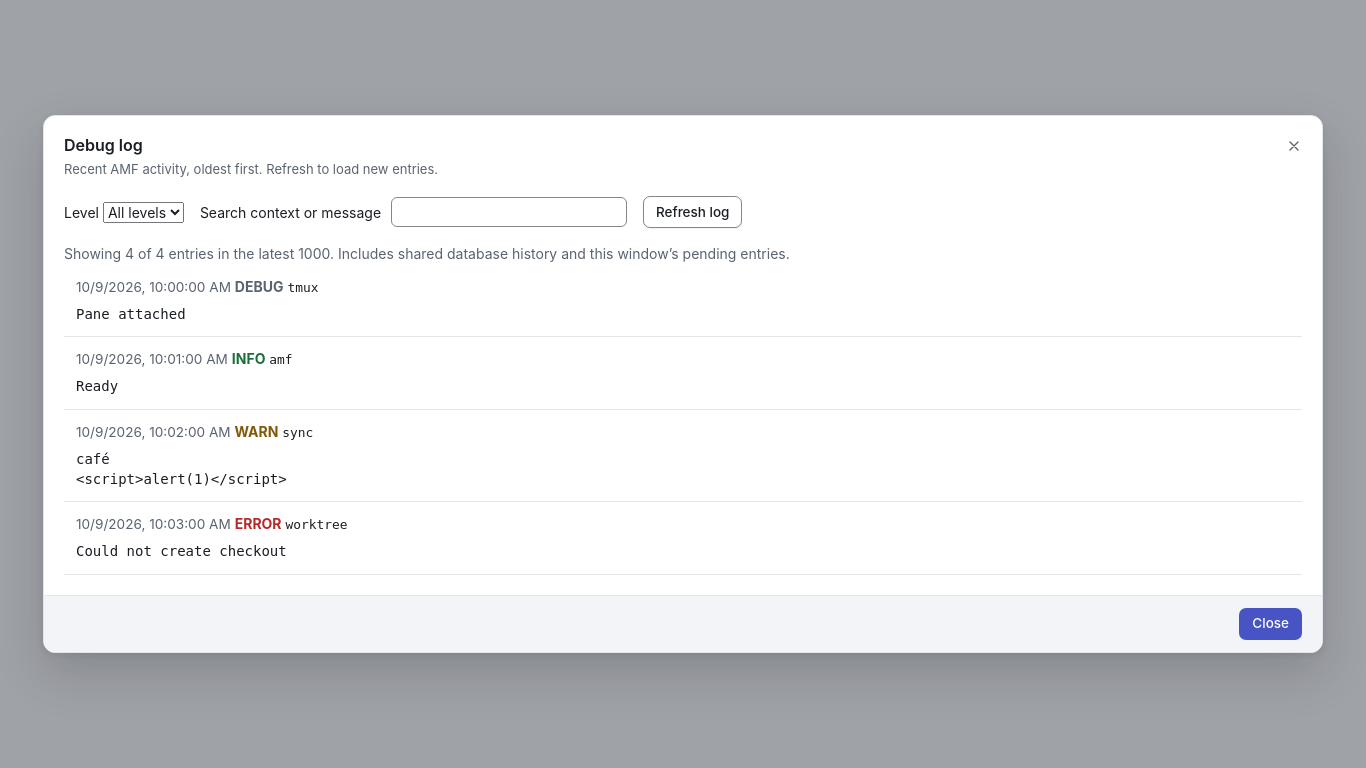
Test case: reports refresh failure as previous history and permits retry
Expected: the text "Pane attached" is shown, x1=76 y1=306 x2=186 y2=322
Click the button "Refresh log". click: [693, 212]
box: x1=643 y1=196 x2=742 y2=228
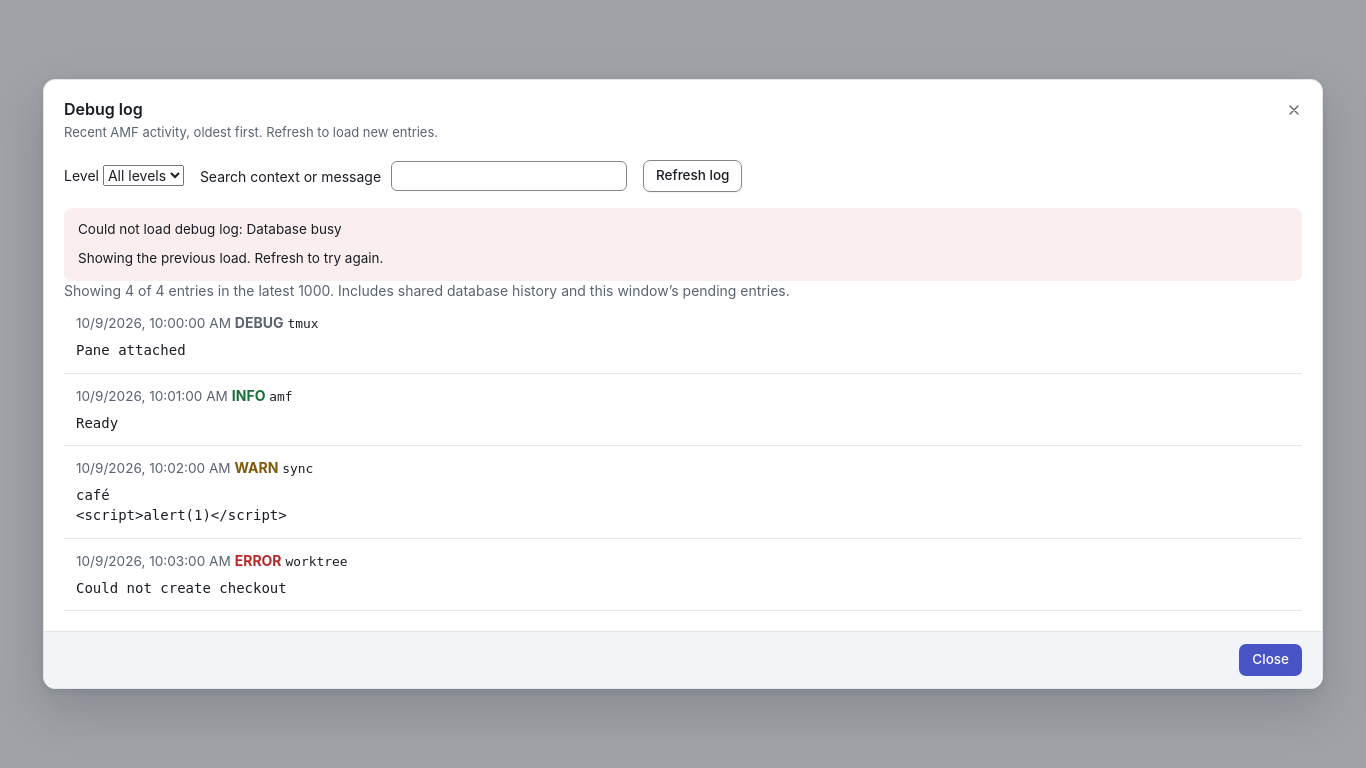
Expected: the text "Pane attached" is shown, x1=76 y1=342 x2=186 y2=358
Expected: the text "Showing the previous load. Refresh to try again." is shown, x1=78 y1=249 x2=383 y2=269
Click the button "Refresh log". click: [693, 176]
box: x1=643 y1=160 x2=742 y2=192
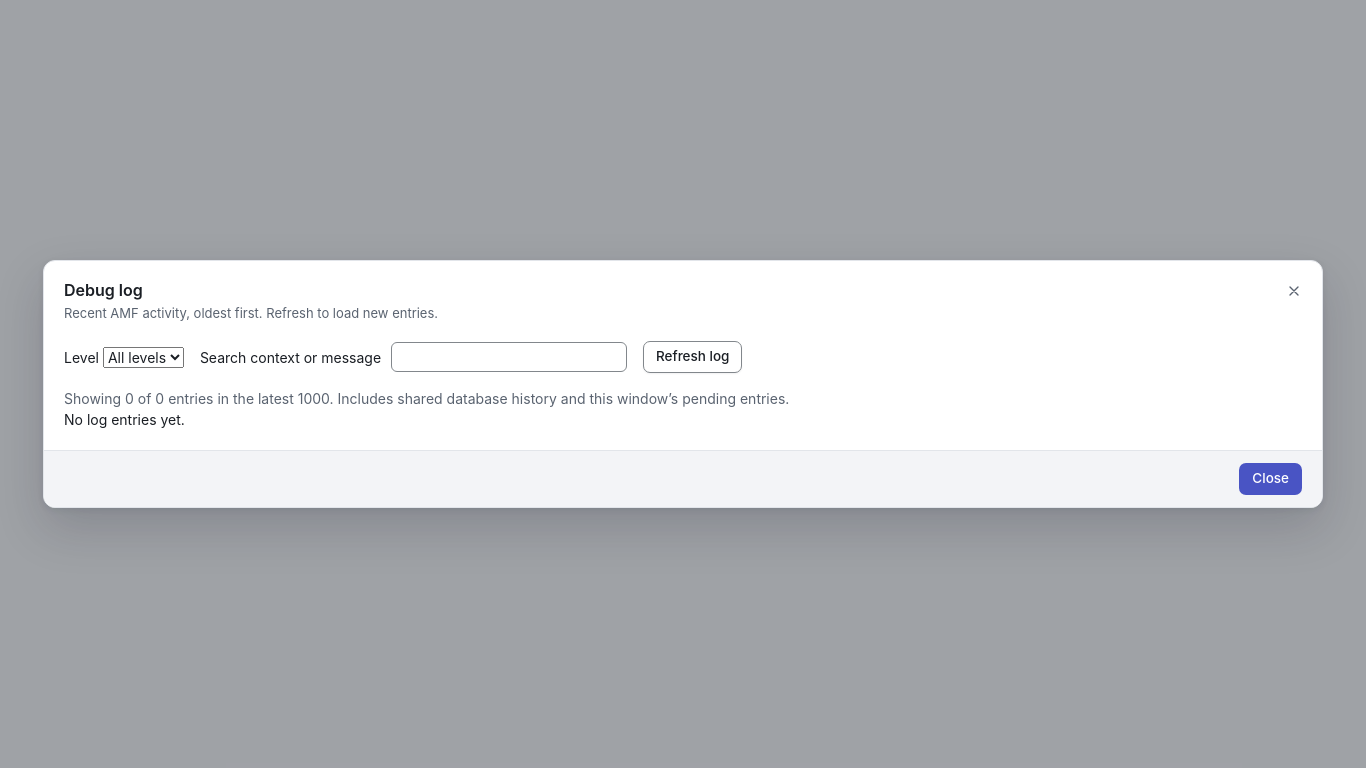
Expected: the text "No log entries yet." is shown, x1=64 y1=410 x2=185 y2=428
Expected: the message is gone
